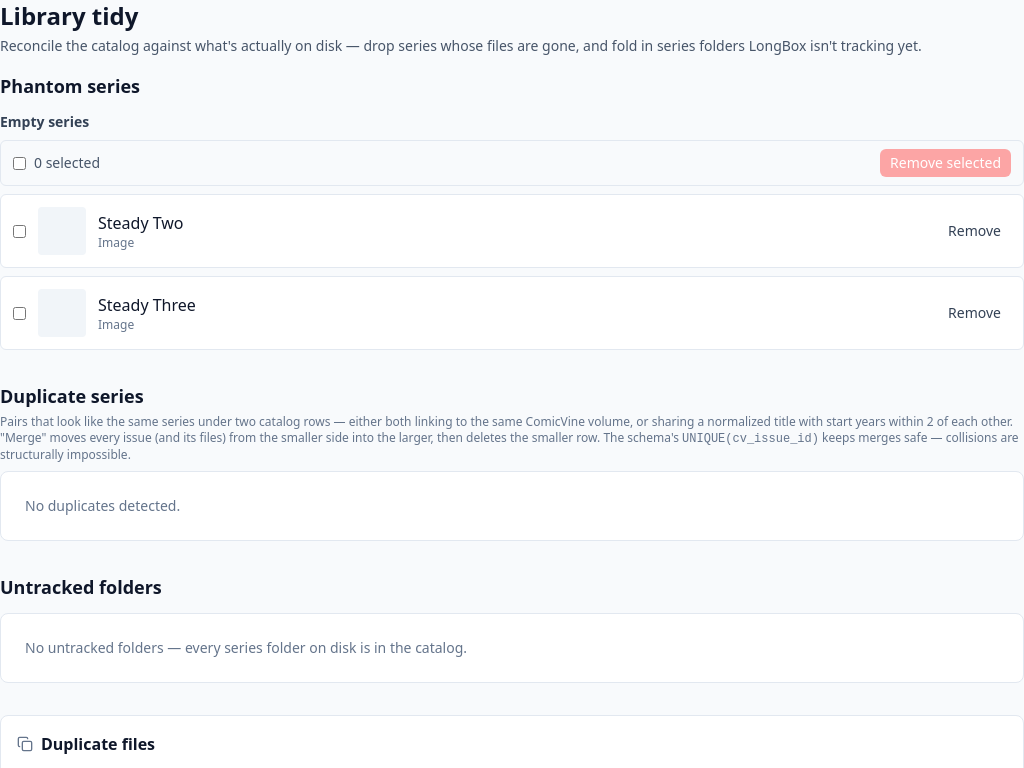
Test: library tidy page › bulk-removes selected phantoms via per-series delete with deleteFiles=true
Click the checkbox named "Select all empty series". click: (20, 163)
box: [13,156,26,170]
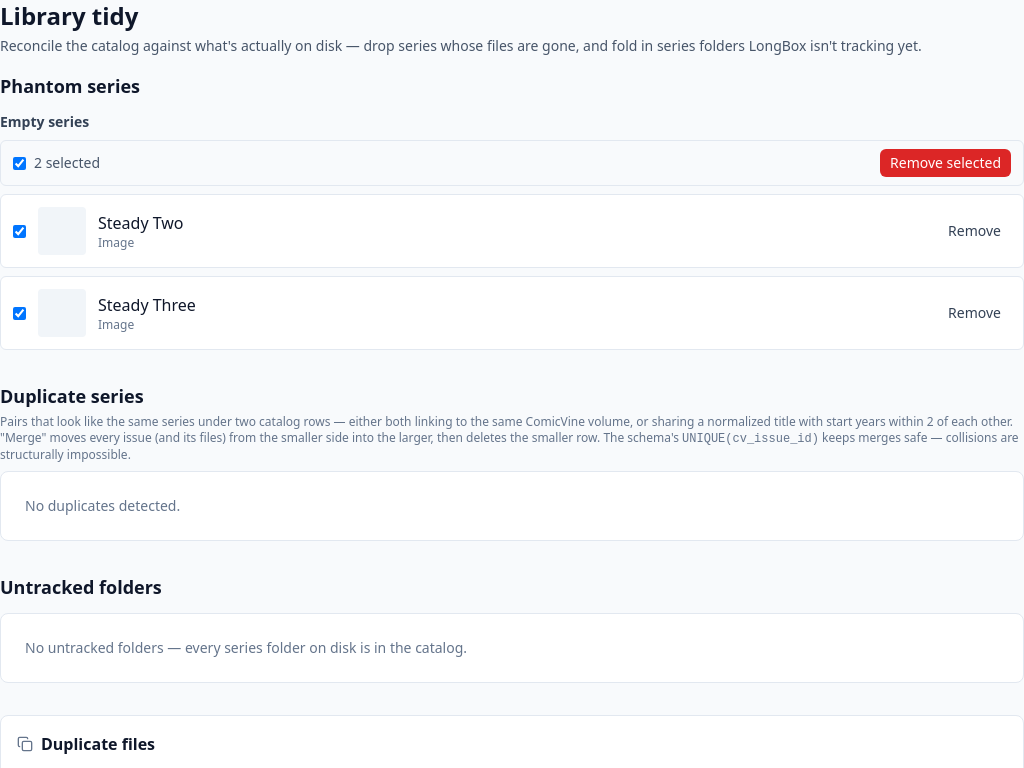
Click the button "Remove selected". click: (946, 163)
box: [880,149,1011,177]
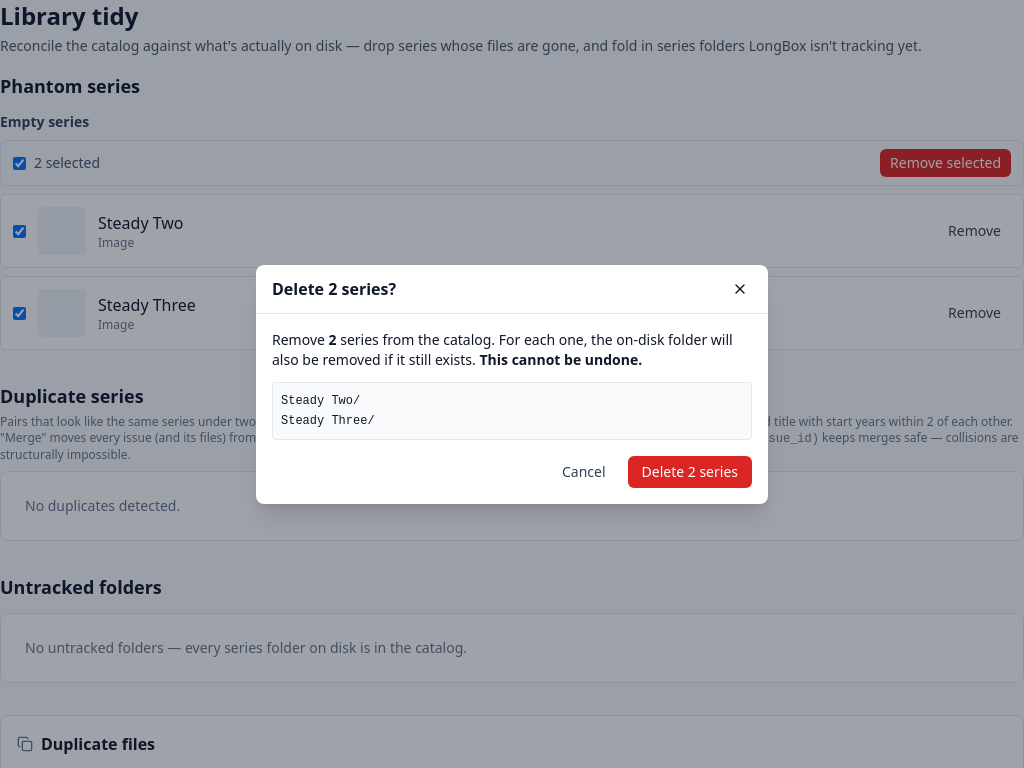
# Bulk modal: confirm.
Click the button "Delete 2 series". click: (690, 472)
box: [628,456,752,488]
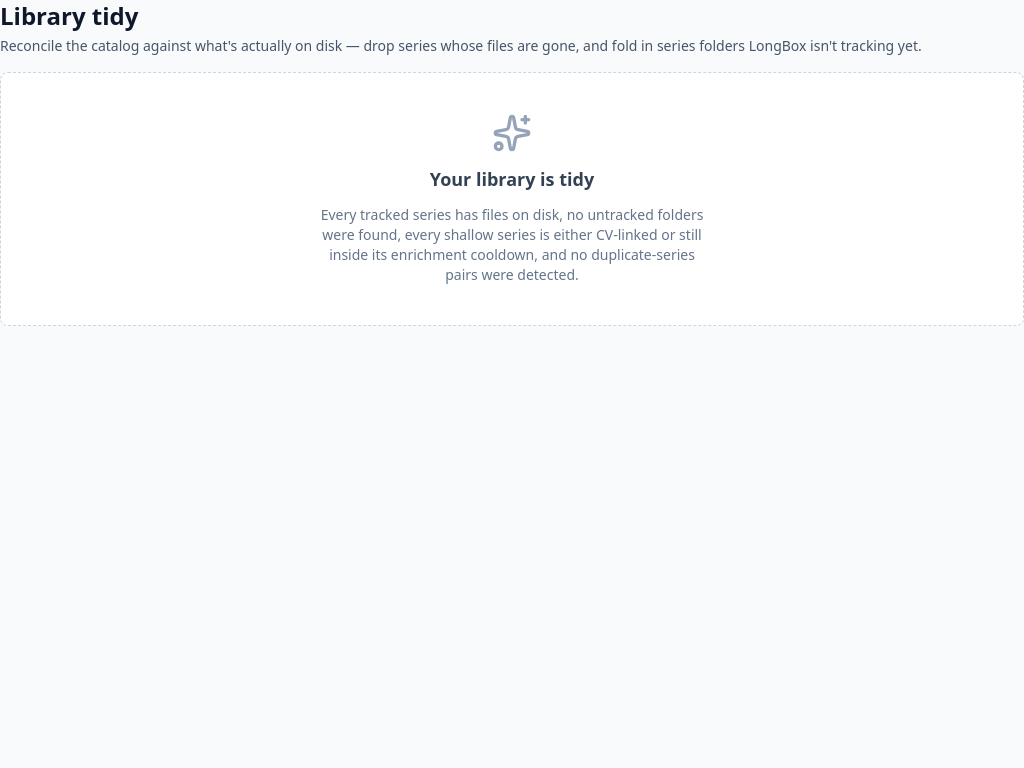
Result: the text "Steady Two" is gone
Result: the text "Steady Three" is gone
